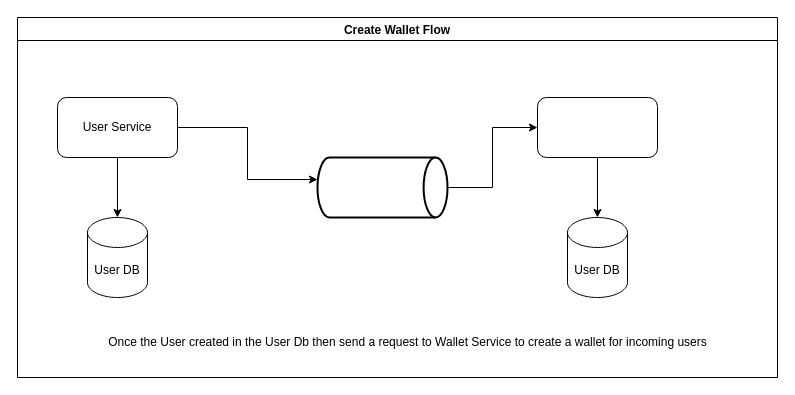
Some shapes in this 795 by 395 pixel diagram are drawn without their labels. Here are the shapes that lost their labels. From the top down, the centre of each, then its label:
(x=597, y=127): Wallet Service
(x=382, y=187): RabbitMQ
